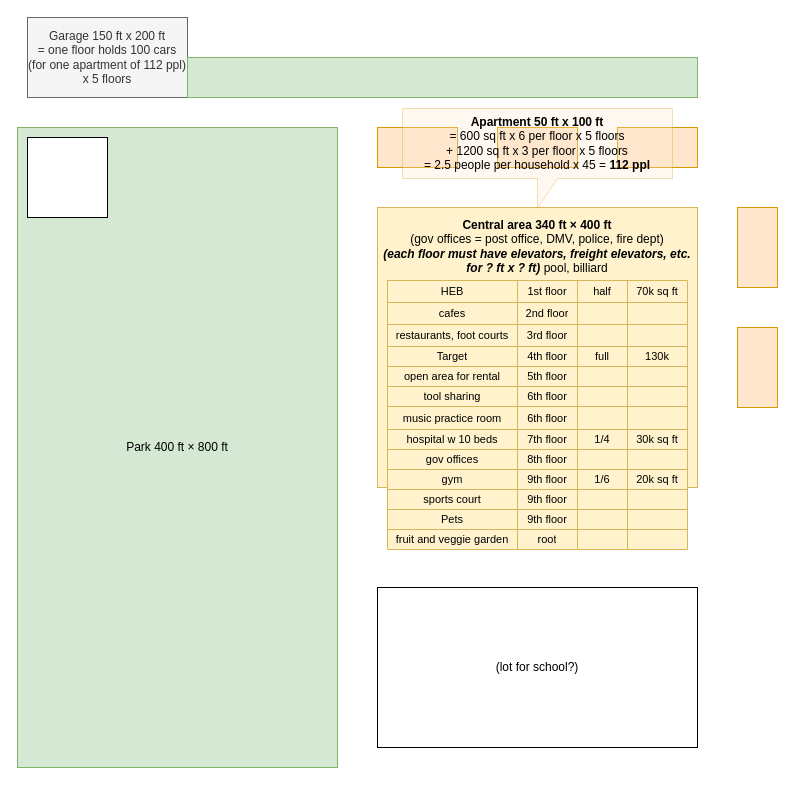
This 795x785 diagram has some shape labels left out. Here are the shapes that lost their labels. From the top down, the centre of each, then its label:
At [442,77]: "walkaway ? ft x ? ft".
At [67,177]: "100 ft x 100 ft".
